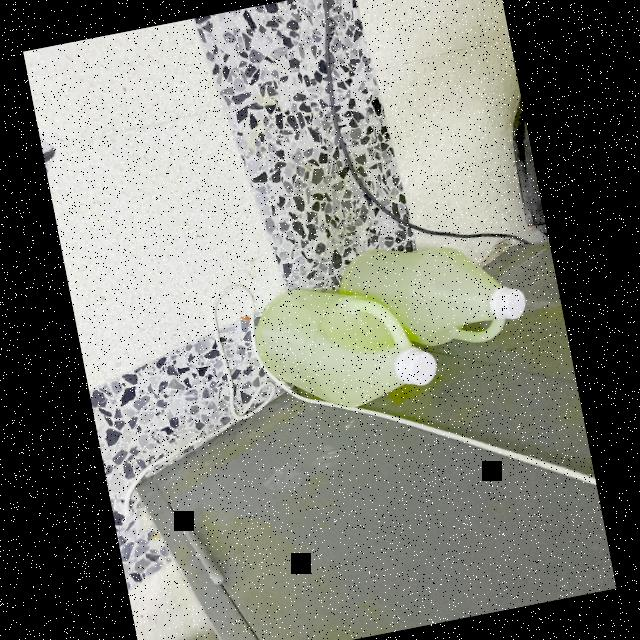chemical_plastic_gallon: (328, 222, 540, 376), (247, 274, 438, 433)
